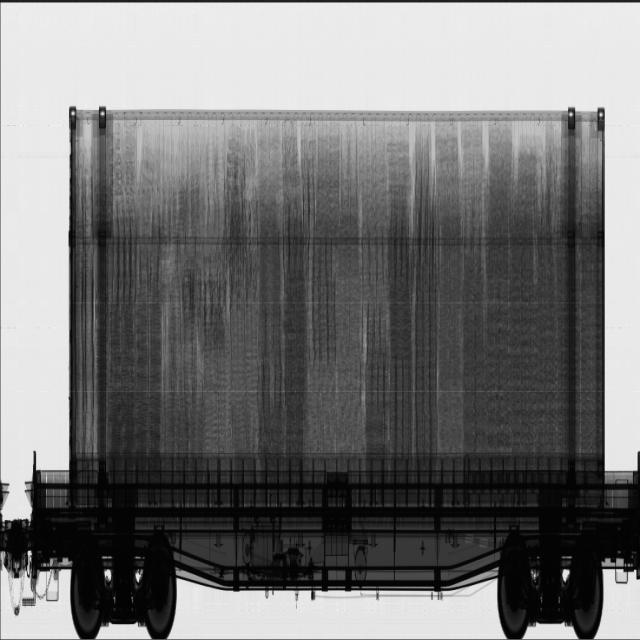shoes: (74, 122, 598, 453)
